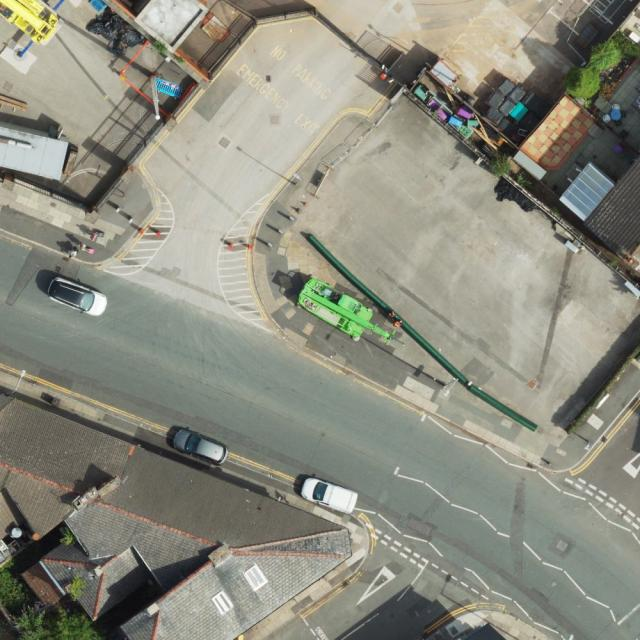roof: (0, 396, 352, 640), (586, 156, 640, 276)
skylight: (244, 564, 268, 593), (211, 591, 234, 617)
